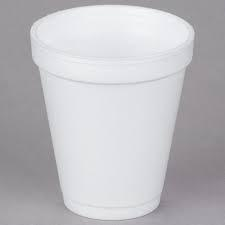Plastic cup: (22, 6, 225, 221)
